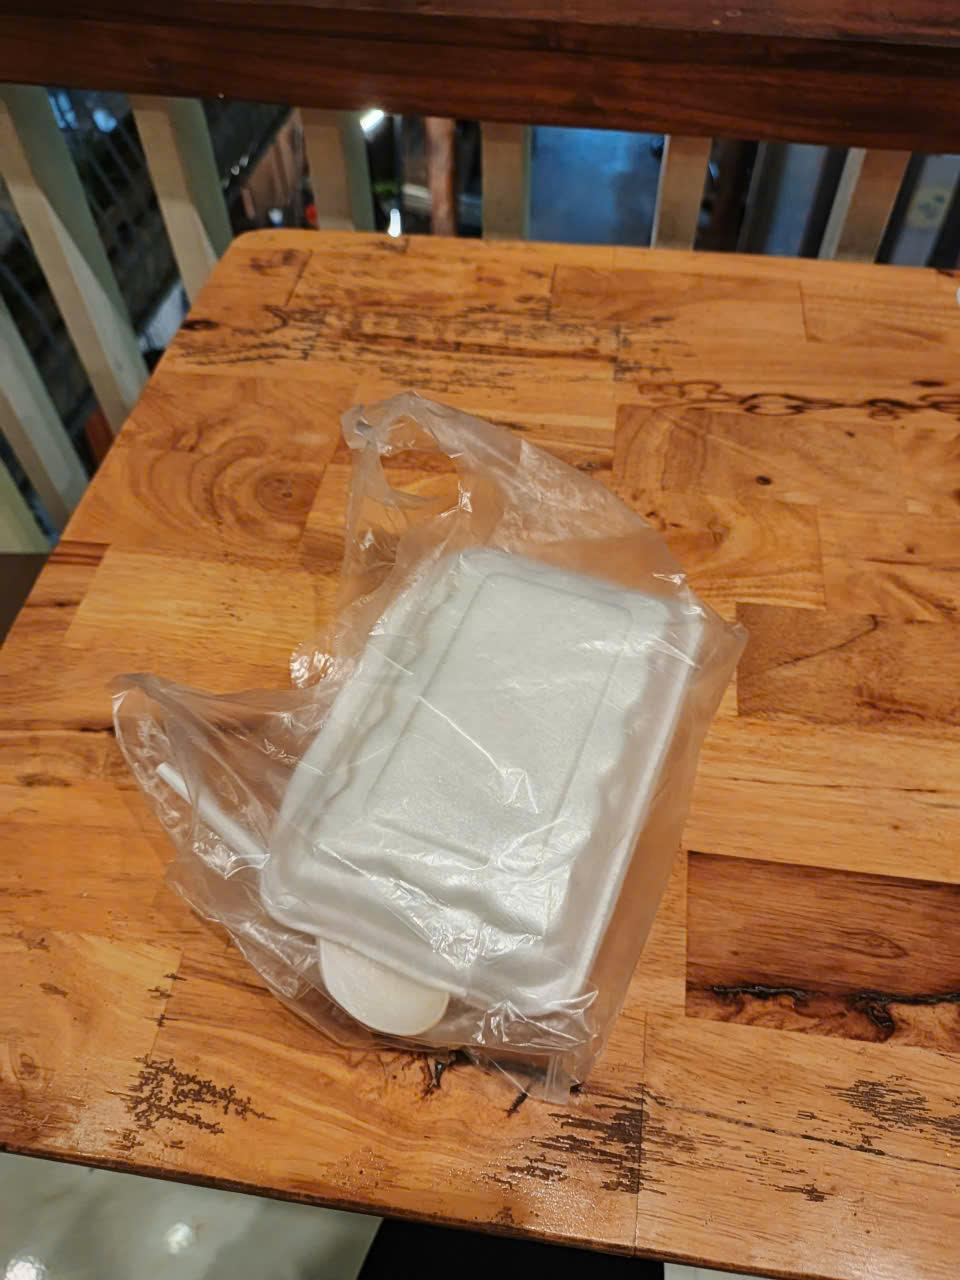Con lai: (115, 385, 748, 1099)
